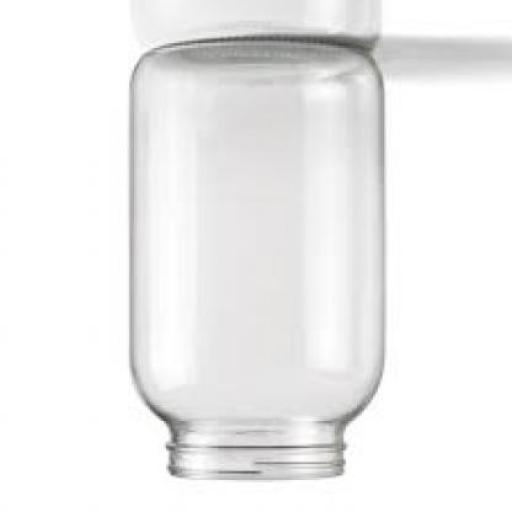glass: (128, 41, 384, 482)
